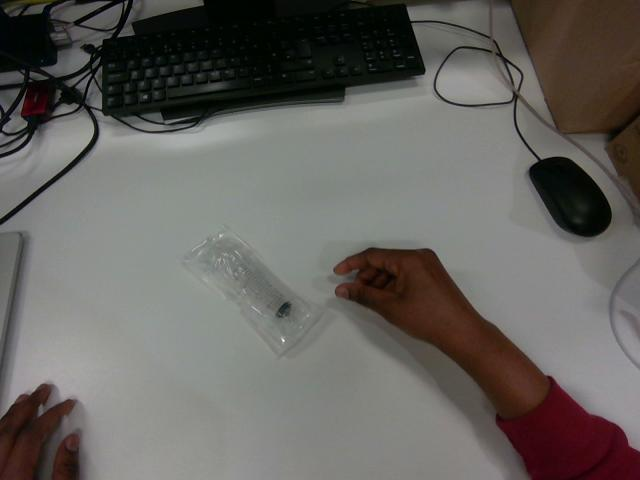syringe: (183, 227, 323, 355)
